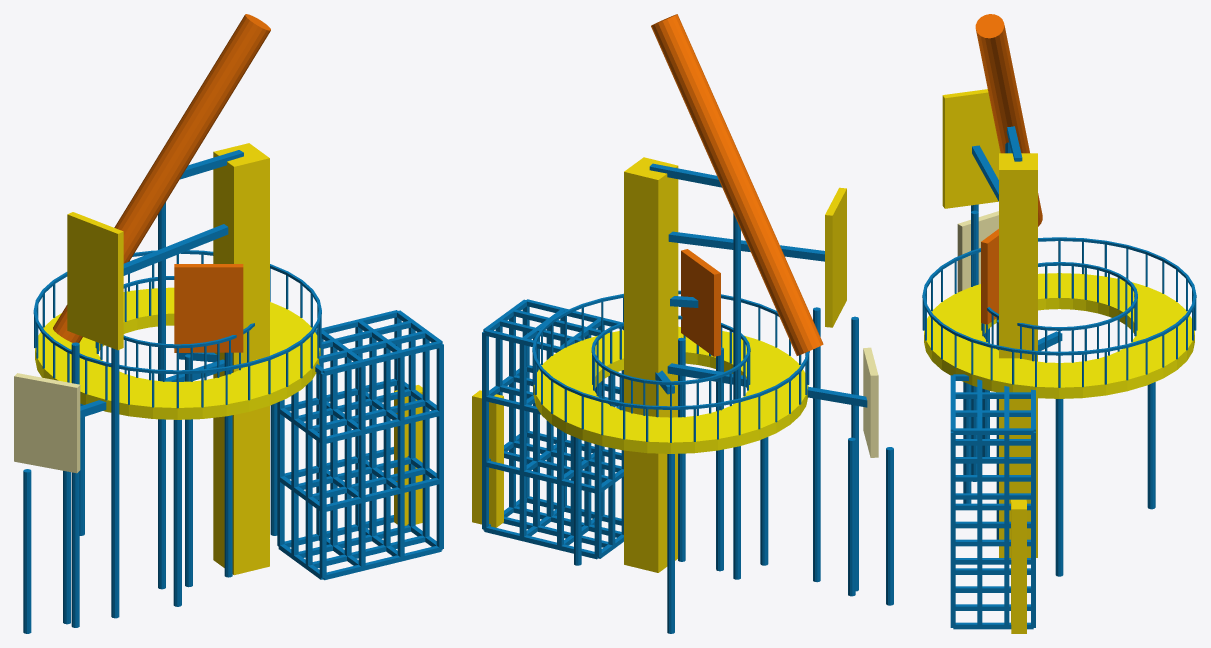
The model's file is folie_tag_078.glb.
3 views of the same model, side by side, from view 1: azimuth 30°, elevation 25°; view 2: azimuth 150°, elevation 25°; view 3: azimuth 270°, elevation 25° (orthographic). The views are drawn at different scales.
Visible parts, largest first — view 1: folie_tag_078_01_cage, folie_tag_078_line, folie_tag_078_core, folie_tag_078_00_ring, folie_tag_078_02_tube, folie_tag_078_03_panel, folie_tag_078_06_panel, folie_tag_078_05_panel, folie_tag_078_04_fin; view 2: folie_tag_078_line, folie_tag_078_01_cage, folie_tag_078_core, folie_tag_078_00_ring, folie_tag_078_02_tube, folie_tag_078_05_panel, folie_tag_078_04_fin, folie_tag_078_03_panel, folie_tag_078_06_panel; view 3: folie_tag_078_00_ring, folie_tag_078_line, folie_tag_078_01_cage, folie_tag_078_core, folie_tag_078_03_panel, folie_tag_078_02_tube, folie_tag_078_04_fin, folie_tag_078_05_panel, folie_tag_078_06_panel.
Part boxes in pixels (box(x1,y1,x2,y2)): folie_tag_078_01_cage: box(277, 310, 443, 580); folie_tag_078_line: box(23, 150, 321, 633); folie_tag_078_core: box(213, 143, 269, 575); folie_tag_078_00_ring: box(35, 287, 320, 419); folie_tag_078_02_tube: box(53, 14, 270, 342); folie_tag_078_03_panel: box(67, 212, 123, 350); folie_tag_078_06_panel: box(14, 373, 80, 473); folie_tag_078_05_panel: box(174, 264, 243, 352); folie_tag_078_04_fin: box(394, 385, 422, 525); folie_tag_078_line: box(532, 163, 893, 633); folie_tag_078_01_cage: box(482, 299, 623, 559); folie_tag_078_core: box(624, 157, 678, 572); folie_tag_078_00_ring: box(533, 326, 808, 453); folie_tag_078_02_tube: box(651, 14, 823, 355); folie_tag_078_05_panel: box(681, 249, 720, 356); folie_tag_078_04_fin: box(472, 390, 503, 527); folie_tag_078_03_panel: box(825, 187, 846, 327); folie_tag_078_06_panel: box(863, 347, 878, 457); folie_tag_078_00_ring: box(924, 273, 1194, 398); folie_tag_078_line: box(922, 126, 1196, 576); folie_tag_078_01_cage: box(950, 374, 1035, 629); folie_tag_078_core: box(999, 153, 1037, 557); folie_tag_078_03_panel: box(942, 89, 1000, 208); folie_tag_078_02_tube: box(975, 14, 1042, 226); folie_tag_078_04_fin: box(1011, 499, 1026, 633); folie_tag_078_05_panel: box(981, 229, 998, 324); folie_tag_078_06_panel: box(957, 211, 998, 292).
Size of the model in its own units: 12.8 by 16.49 by 7.68.
